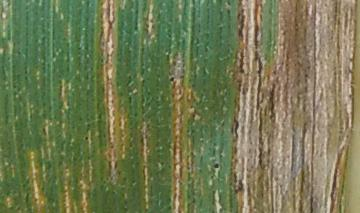tarspot: (209, 161, 221, 170), (167, 73, 174, 84), (83, 134, 90, 142)
